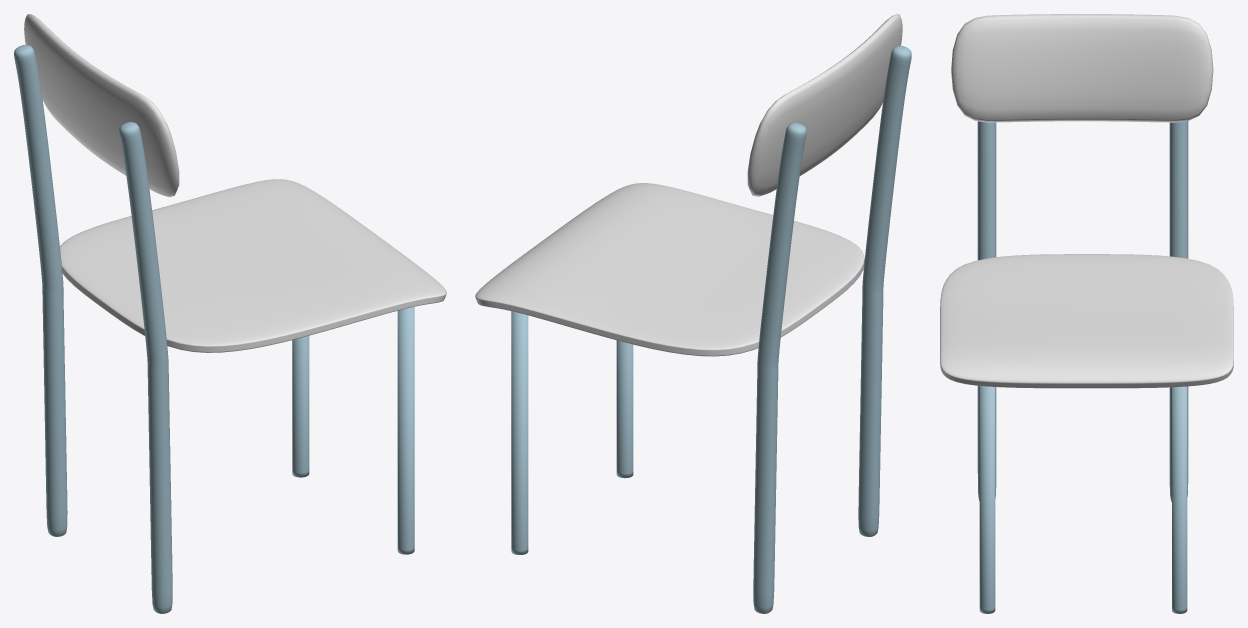
File: StudentsChair 1.fbx
3 renders of one model, left to right at view 1: azimuth 30°, elevation 25°; view 2: azimuth 150°, elevation 25°; view 3: azimuth 270°, elevation 25°, orthographic. The views are drawn at different scales.
Visible parts, largest first — view 1: Seat.001, Backrest, Metal.001, Metal, Cylinder, Cylinder.001; view 2: Seat.001, Backrest, Metal.001, Metal, Cylinder.001, Cylinder; view 3: Seat.001, Backrest, Cylinder, Cylinder.001, Metal.001, Metal.
Part boxes in pixels (x1,y1,x2,y2): Seat.001: (60,179,446,352); Backrest: (24,14,179,197); Metal.001: (119,122,172,613); Metal: (14,45,67,536); Cylinder: (397,306,414,554); Cylinder.001: (292,336,309,477); Seat.001: (475,183,864,356); Backrest: (747,14,902,196); Metal.001: (858,45,911,536); Metal: (753,122,806,613); Cylinder.001: (511,311,528,554); Cylinder: (616,340,633,478); Seat.001: (940,254,1233,388); Backrest: (951,14,1213,122); Cylinder: (979,386,995,613); Cylinder.001: (1172,386,1187,613); Metal.001: (977,121,996,501); Metal: (1169,121,1188,501).
Bounding box in the file's own units: 296 × 469 × 261.
